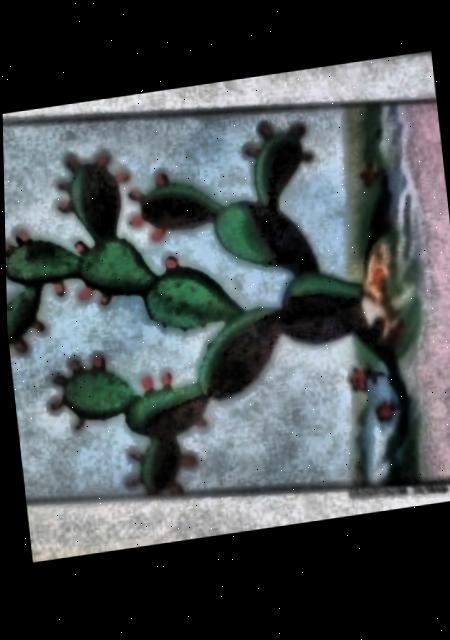El Nopal: (2, 100, 450, 508)
